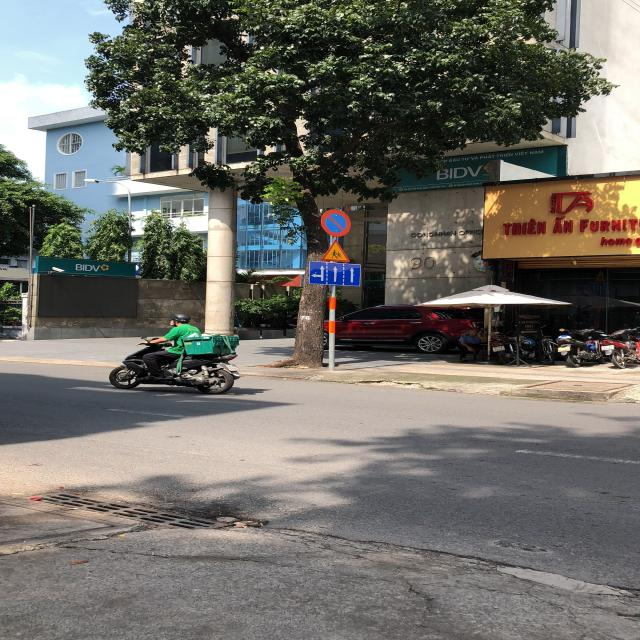Bien bao cam do xe: (317, 208, 358, 236)
Bien bao tre em: (315, 238, 352, 262)
